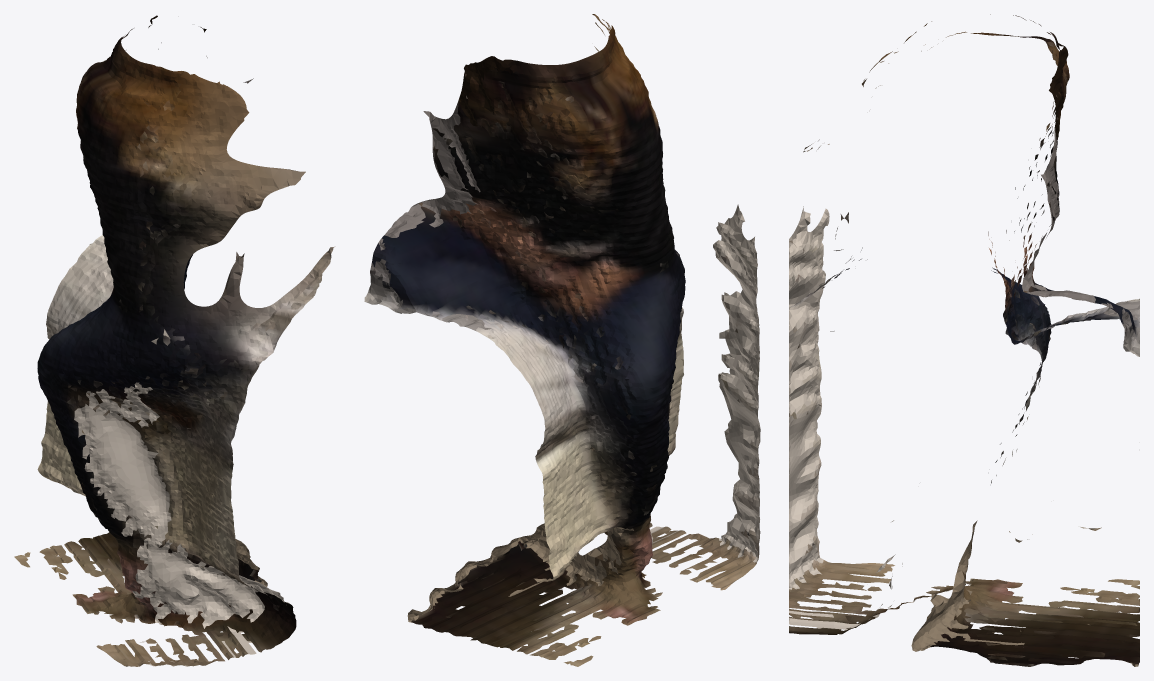
3 renders of one model, left to right at view 1: azimuth 30°, elevation 25°; view 2: azimuth 150°, elevation 25°; view 3: azimuth 270°, elevation 25°, orthographic. The views are drawn at different scales.
Size of the model in its own units: 0.4962 by 1.07 by 0.5726.
1 material, 1 textured.
